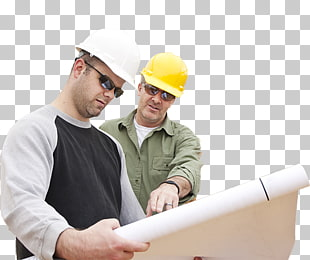casco: (74, 27, 138, 89), (139, 51, 189, 98)
